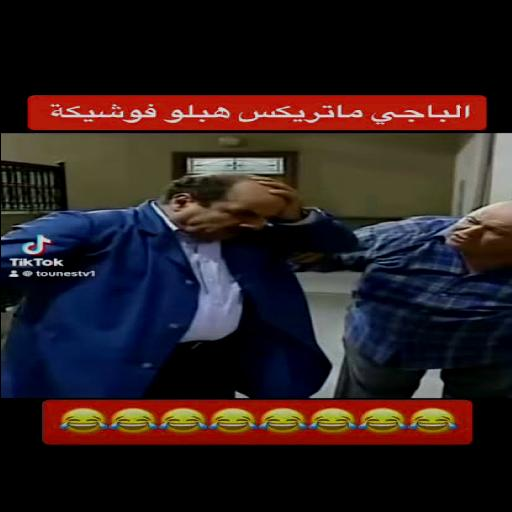beji_matrix: (158, 173, 284, 240)
sboui: (447, 199, 511, 257)
